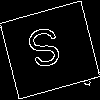S: (24, 25, 67, 79)
